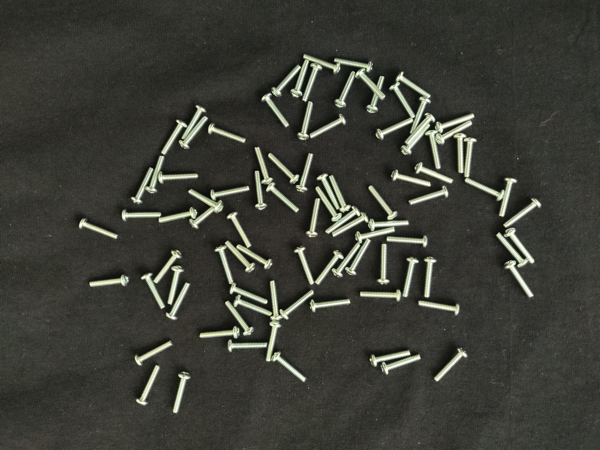longscrew: (501, 197, 543, 230), (501, 260, 535, 300), (495, 231, 530, 269), (434, 347, 469, 384), (134, 364, 163, 407), (271, 351, 308, 384), (504, 227, 536, 265), (367, 184, 399, 221), (314, 249, 345, 287), (279, 289, 317, 320), (345, 238, 374, 278), (404, 111, 437, 146), (265, 181, 300, 214), (165, 281, 193, 322), (224, 300, 255, 337), (332, 241, 362, 279), (134, 339, 174, 367), (189, 199, 224, 231), (463, 176, 506, 202), (325, 205, 361, 236), (152, 249, 183, 285), (260, 92, 290, 129), (354, 69, 388, 101), (271, 63, 303, 97), (179, 115, 209, 151), (314, 185, 343, 222), (310, 112, 348, 140), (314, 173, 342, 211), (226, 211, 254, 249), (267, 152, 300, 184), (224, 240, 256, 273), (401, 122, 432, 156), (374, 116, 416, 141), (395, 71, 432, 99), (389, 82, 417, 119), (161, 118, 188, 156), (140, 273, 167, 311), (331, 212, 370, 238), (181, 104, 208, 141), (413, 162, 456, 185), (380, 353, 423, 376), (236, 244, 274, 270), (333, 70, 358, 109), (408, 184, 450, 207), (78, 218, 120, 241), (188, 188, 225, 214), (300, 63, 324, 103), (130, 166, 154, 206), (436, 120, 474, 145), (434, 112, 477, 134), (329, 173, 352, 214), (292, 245, 315, 286), (229, 283, 270, 306), (144, 154, 167, 195), (408, 96, 432, 135), (232, 295, 274, 317), (171, 371, 192, 415), (253, 145, 275, 186), (214, 245, 236, 286), (498, 176, 519, 218), (365, 74, 387, 114), (302, 52, 342, 74), (369, 348, 412, 368), (208, 123, 248, 144), (290, 59, 312, 97), (296, 100, 316, 141), (295, 152, 315, 193), (389, 170, 432, 189), (401, 256, 420, 299), (264, 319, 282, 364), (417, 299, 461, 317), (166, 265, 185, 306), (425, 128, 443, 170), (355, 226, 397, 244), (210, 184, 251, 202), (158, 207, 199, 225), (332, 56, 375, 73), (422, 256, 439, 299), (309, 298, 352, 315), (268, 279, 285, 322), (306, 197, 322, 239), (359, 289, 402, 304), (198, 325, 241, 340), (89, 274, 131, 289), (386, 235, 430, 249), (463, 137, 478, 178), (157, 171, 200, 185), (226, 339, 268, 353), (121, 209, 163, 223), (254, 170, 268, 211), (367, 218, 411, 231), (377, 242, 390, 286), (454, 133, 467, 174)
